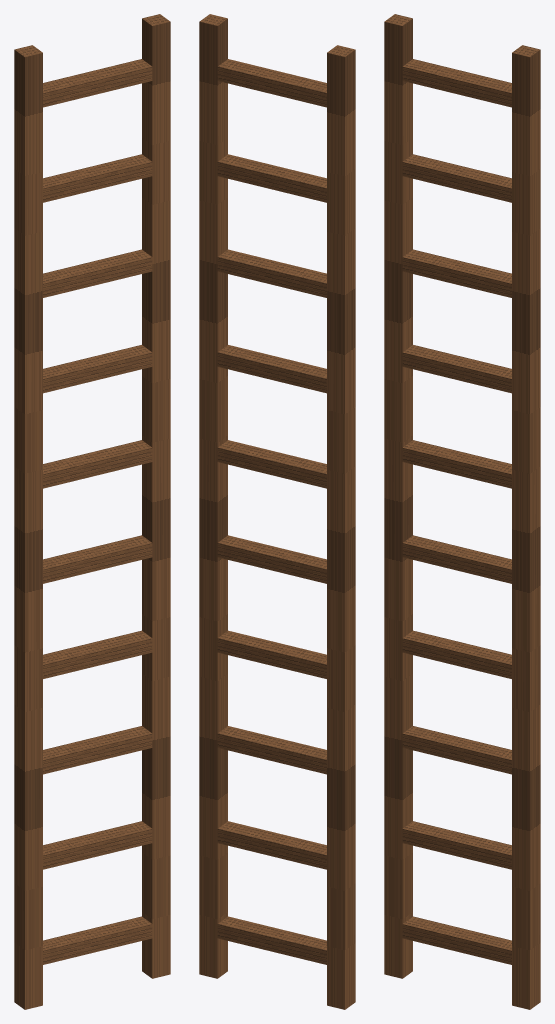
3 views of the same model, side by side, from view 1: azimuth 30°, elevation 25°; view 2: azimuth 150°, elevation 25°; view 3: azimuth 330°, elevation 25° (orthographic).
Parts seen in each view (by area): view 1: ladder; view 2: ladder; view 3: ladder.
Part boxes in pixels (x1=…): ladder: x1=14, y1=14, x2=170, y2=1009; ladder: x1=199, y1=14, x2=355, y2=1009; ladder: x1=384, y1=14, x2=540, y2=1009.
Bounding box in the file's own units: 0.64 × 4 × 0.08.
1 material, 1 textured.
